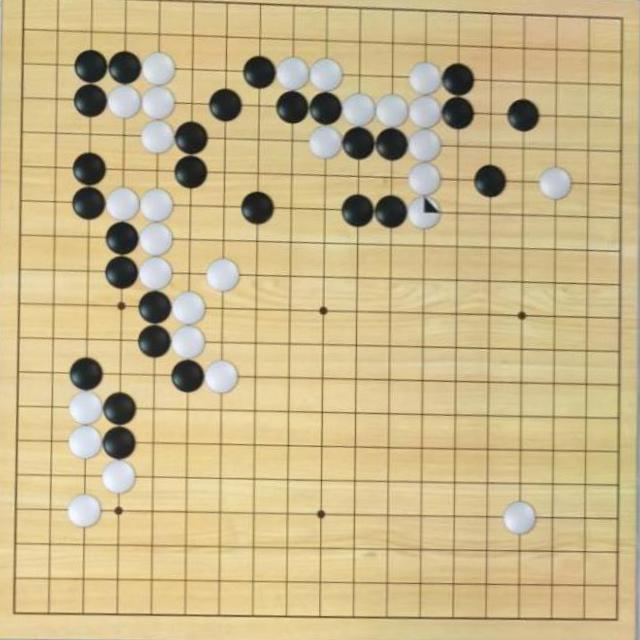blackstone: (72, 152, 107, 187), (106, 221, 140, 256), (174, 120, 209, 154), (138, 324, 172, 358), (138, 290, 172, 324), (70, 358, 104, 392), (174, 156, 208, 190), (74, 84, 108, 118), (108, 51, 142, 85), (102, 393, 137, 426), (102, 427, 136, 460), (374, 195, 407, 229), (106, 255, 139, 289), (241, 191, 274, 225), (72, 187, 106, 220), (209, 89, 243, 122), (442, 97, 476, 130), (442, 63, 476, 96), (75, 50, 108, 84), (474, 165, 507, 198), (276, 91, 309, 124), (507, 99, 540, 132), (342, 194, 374, 228), (310, 92, 342, 126), (342, 127, 374, 160), (375, 128, 407, 161), (243, 56, 276, 88), (172, 360, 204, 392)
whitestone: (68, 392, 104, 426), (68, 425, 102, 460), (67, 494, 102, 528), (106, 187, 140, 222), (142, 86, 176, 121), (503, 501, 537, 536), (142, 52, 176, 87), (102, 460, 136, 494), (172, 326, 206, 360), (206, 259, 240, 293), (172, 292, 206, 326), (141, 120, 175, 154), (108, 85, 142, 119), (276, 57, 310, 91), (140, 188, 173, 223), (139, 257, 173, 290), (140, 222, 173, 256), (539, 167, 572, 201), (376, 95, 409, 129), (342, 93, 375, 127), (409, 62, 442, 96), (310, 58, 342, 93), (309, 126, 342, 159), (408, 162, 441, 195), (409, 196, 442, 229), (409, 96, 442, 129), (206, 361, 238, 394), (408, 130, 440, 162)
